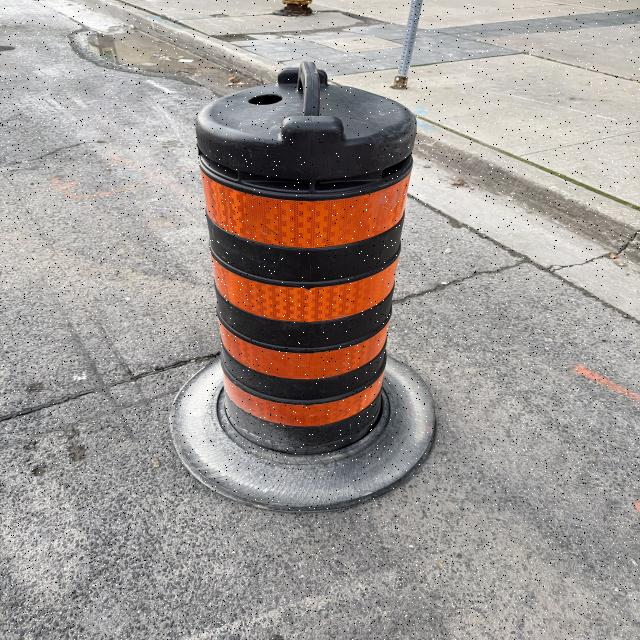Teraffic Barrel: (172, 62, 434, 510)
